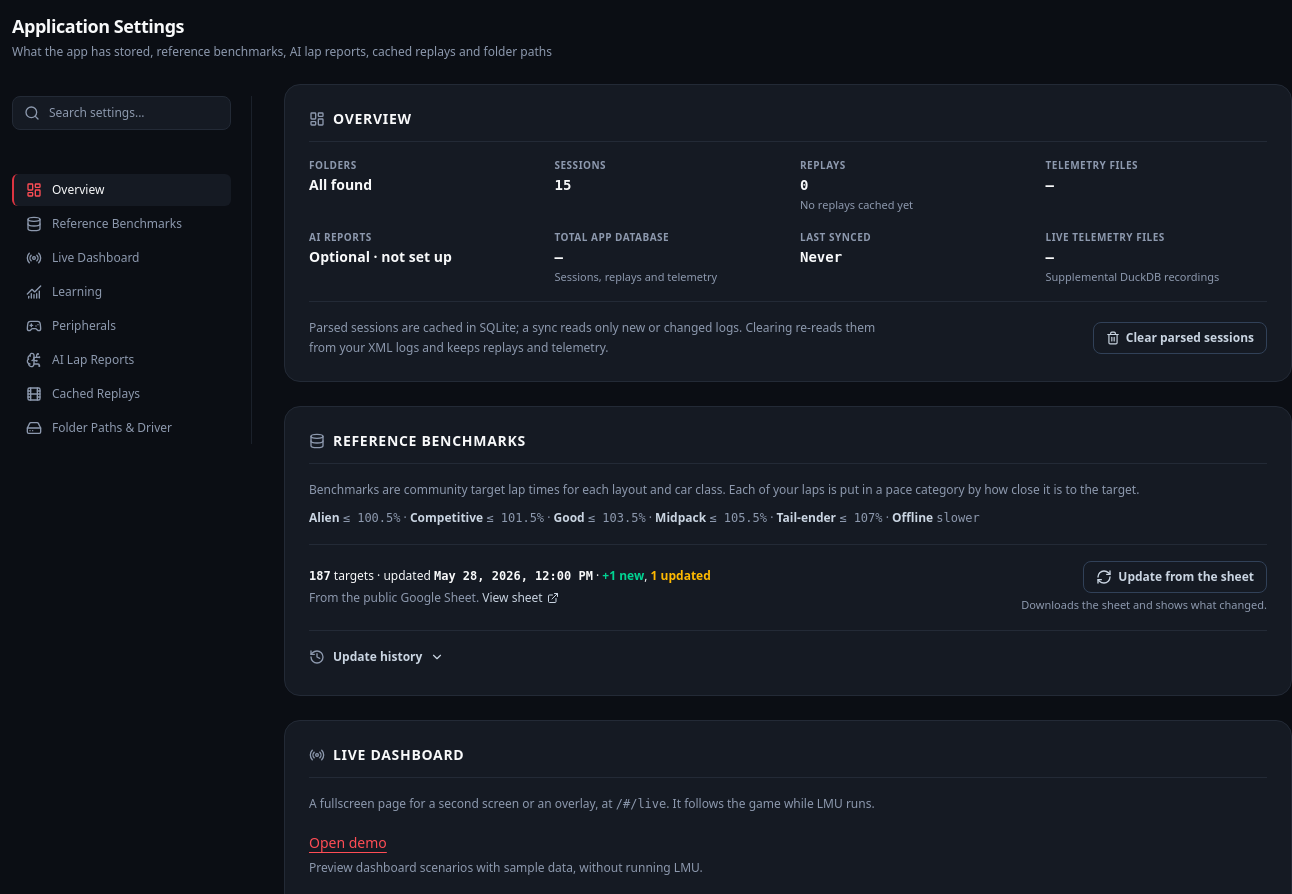
Scenario: Settings component › renders benchmark updates changelog section when lastUpdateDiff has changes
The width and height of the screenshot is (1292, 894).
Check: the text "No replays cached yet" is shown, box [800,197,913,212]
Check: the text "+1 new" is shown, box [602,567,644,584]
Click the button "Update history" at (377, 656), box [309,648,444,664]
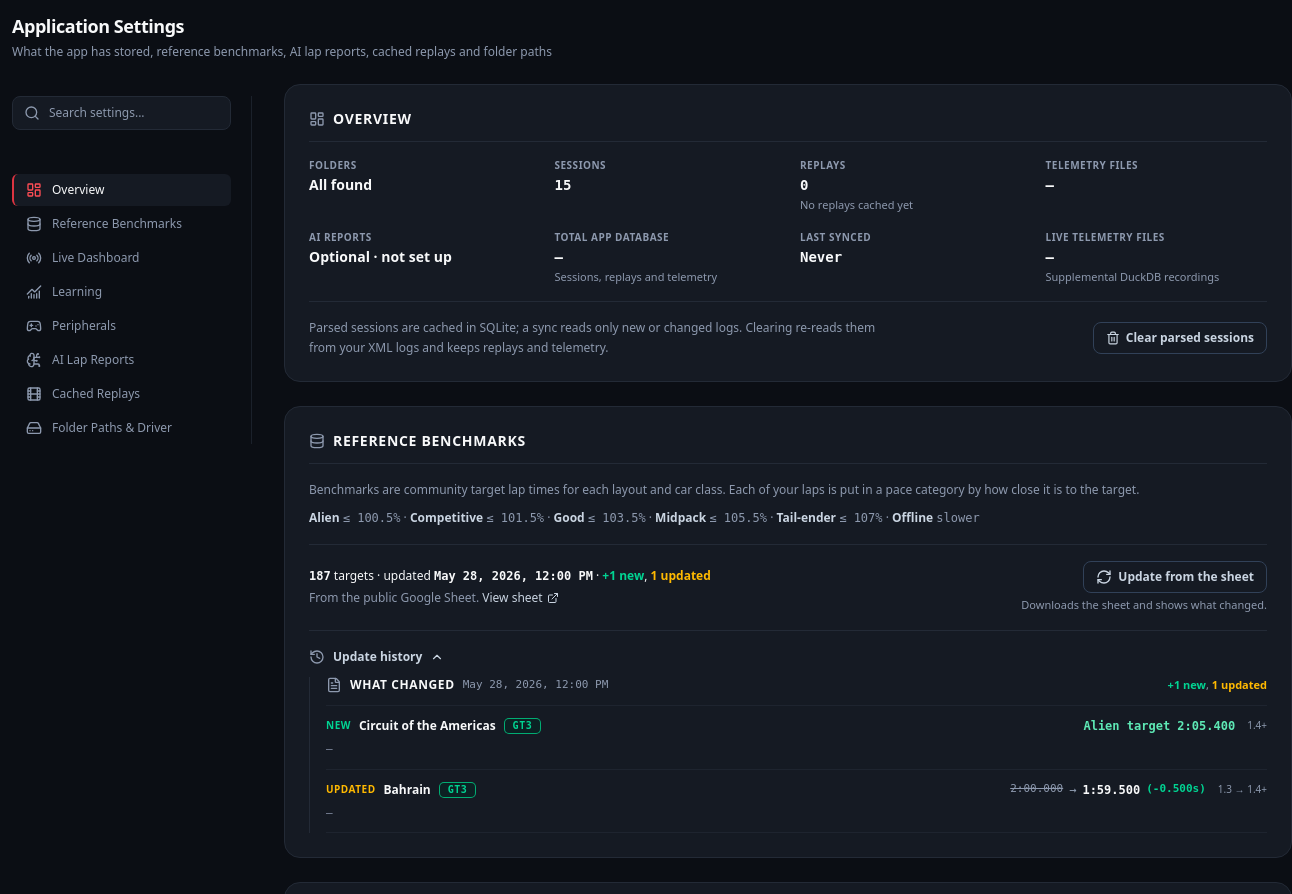
Check: the heading "What changed" is shown, box [350,677,455,693]
Check: the text "Circuit of the Americas" is shown, box [359,718,496,734]
Check: the text "Alien target 2:05.400" is shown, box [1083,718,1235,734]
